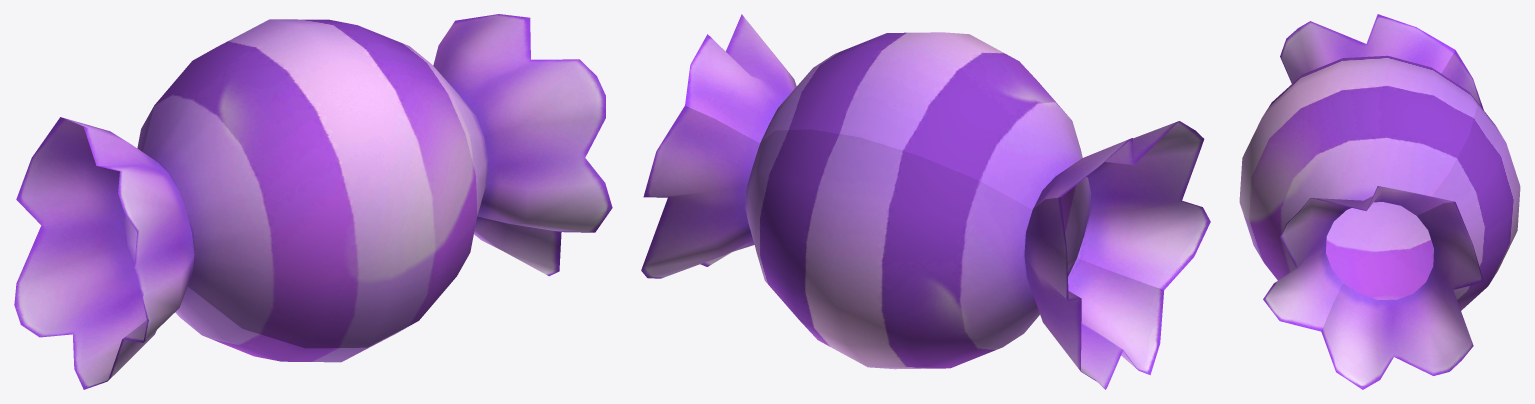
File: candies3.fbx
3 views of the same model, side by side, from view 1: azimuth 30°, elevation 25°; view 2: azimuth 150°, elevation 25°; view 3: azimuth 270°, elevation 25° (orthographic). The views are drawn at different scales.
Visible parts, largest first — view 1: candies3; view 2: candies3; view 3: candies3.
Boxes of the visible parts, x1=… form: candies3: x1=14, y1=14, x2=612, y2=389; candies3: x1=641, y1=14, x2=1210, y2=389; candies3: x1=1239, y1=14, x2=1520, y2=389.
Bounding box in the file's own units: 221 × 142 × 142.
1 material, 1 textured.
